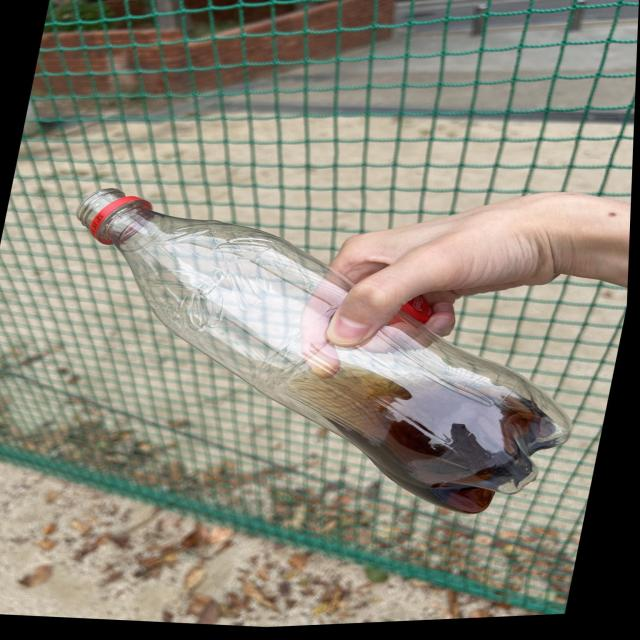low: (77, 188, 571, 513)
